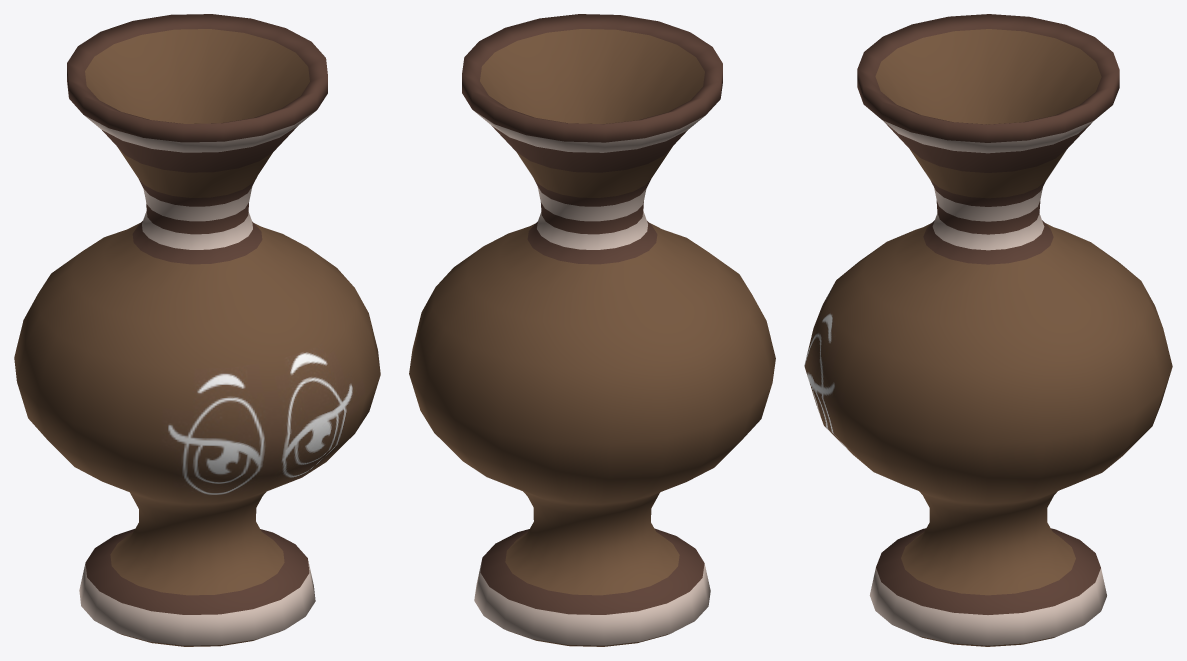
The model's file is Vase_3-2.fbx.
The picture shows the model from 3 angles, left to right: view 1: azimuth 30°, elevation 25°; view 2: azimuth 150°, elevation 25°; view 3: azimuth 270°, elevation 25°; orthographic projection.
Parts seen in each view (by area): view 1: Vase_3-2; view 2: Vase_3-2; view 3: Vase_3-2.
Part boxes in pixels (x1,y1,x2,y2): Vase_3-2: [14, 14, 380, 646]; Vase_3-2: [409, 14, 775, 646]; Vase_3-2: [804, 14, 1172, 646].
Size of the model in its own units: 54.13 by 85.99 by 54.13.
Materials: 1 (1 with a texture image).
